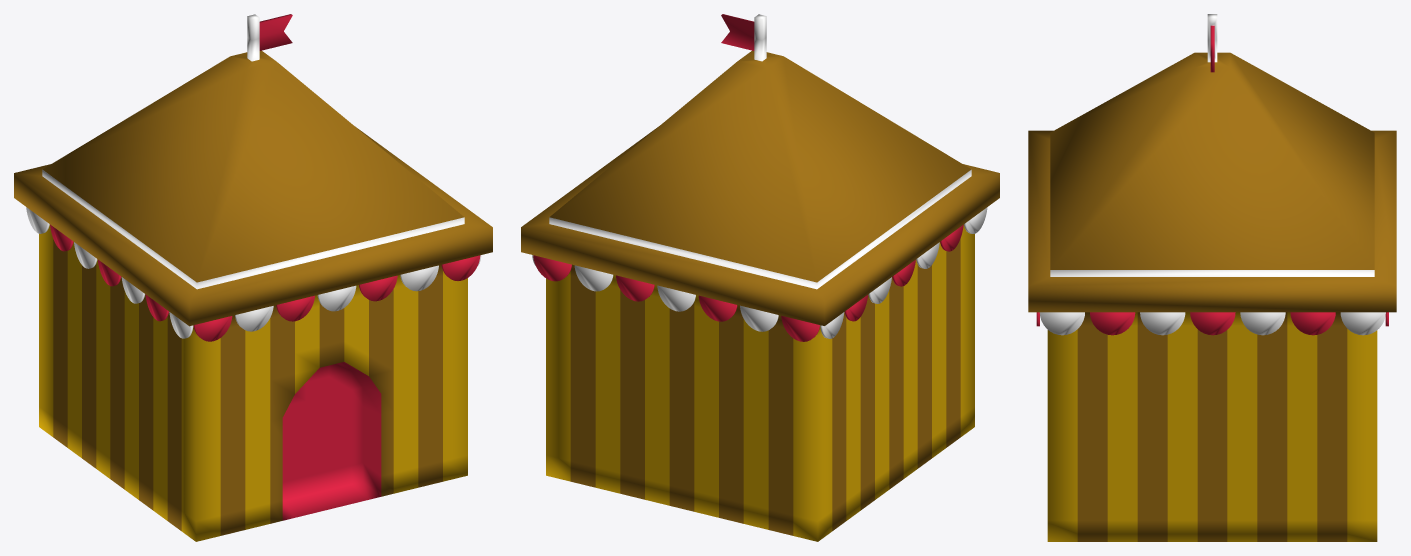
Rendered from tenda quadrada.fbx.
3 renders of one model, left to right at view 1: azimuth 30°, elevation 25°; view 2: azimuth 150°, elevation 25°; view 3: azimuth 270°, elevation 25°, orthographic. The views are drawn at different scales.
Visible parts, largest first — view 1: Tenda quadrada; view 2: Tenda quadrada; view 3: Tenda quadrada.
Part boxes in pixels (x1,y1,x2,y2): Tenda quadrada: (14, 14, 492, 541); Tenda quadrada: (521, 14, 999, 541); Tenda quadrada: (1028, 14, 1396, 541).
Size of the model in its own units: 1616 by 2210 by 1616.
